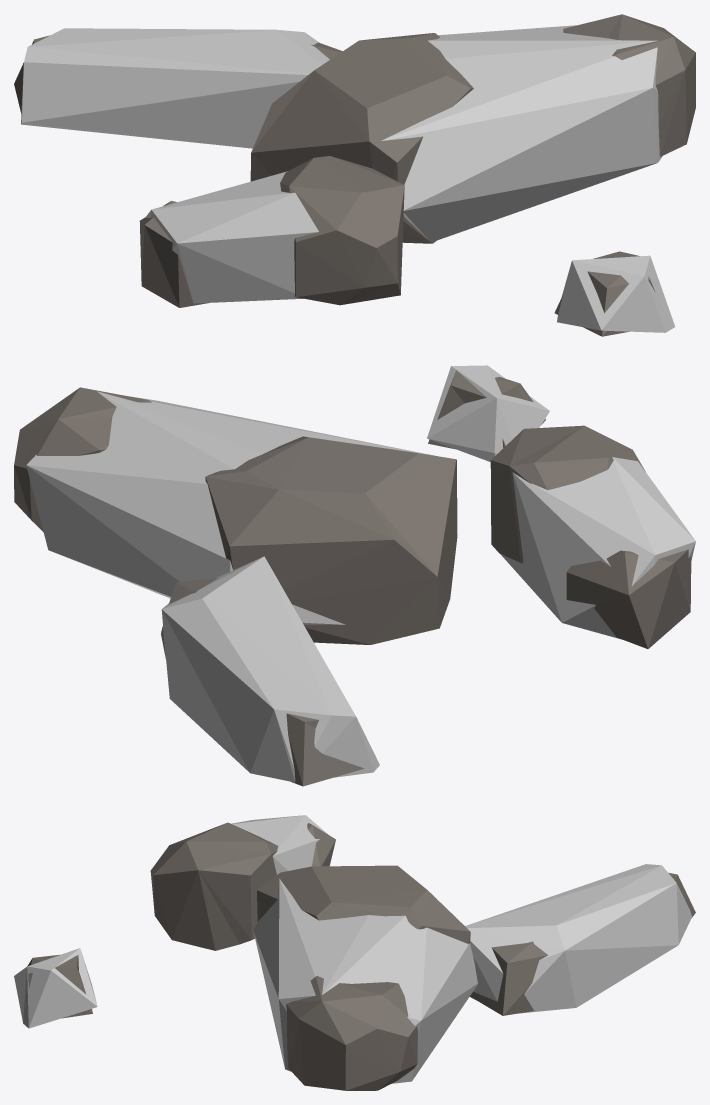
Rendered from SM_Env_Pebbles_02.fbx.
3 views of the same model, one above another, from view 1: azimuth 30°, elevation 25°; view 2: azimuth 150°, elevation 25°; view 3: azimuth 270°, elevation 25° (orthographic). The views are drawn at different scales.
Visible parts, largest first — view 1: SM_Env_Pebbles_02_ConvexHulls, SM_Env_Pebbles_02; view 2: SM_Env_Pebbles_02_ConvexHulls, SM_Env_Pebbles_02; view 3: SM_Env_Pebbles_02_ConvexHulls, SM_Env_Pebbles_02.
Part boxes in pixels (<box>): SM_Env_Pebbles_02_ConvexHulls: <box>21,25,675,332</box>; SM_Env_Pebbles_02: <box>14,14,695,336</box>; SM_Env_Pebbles_02_ConvexHulls: <box>26,365,695,782</box>; SM_Env_Pebbles_02: <box>14,370,691,786</box>; SM_Env_Pebbles_02_ConvexHulls: <box>14,815,692,1083</box>; SM_Env_Pebbles_02: <box>27,822,695,1090</box>.
Size of the model in its own units: 126 by 154 by 32.54.
Materials: 2 (1 with a texture image).
